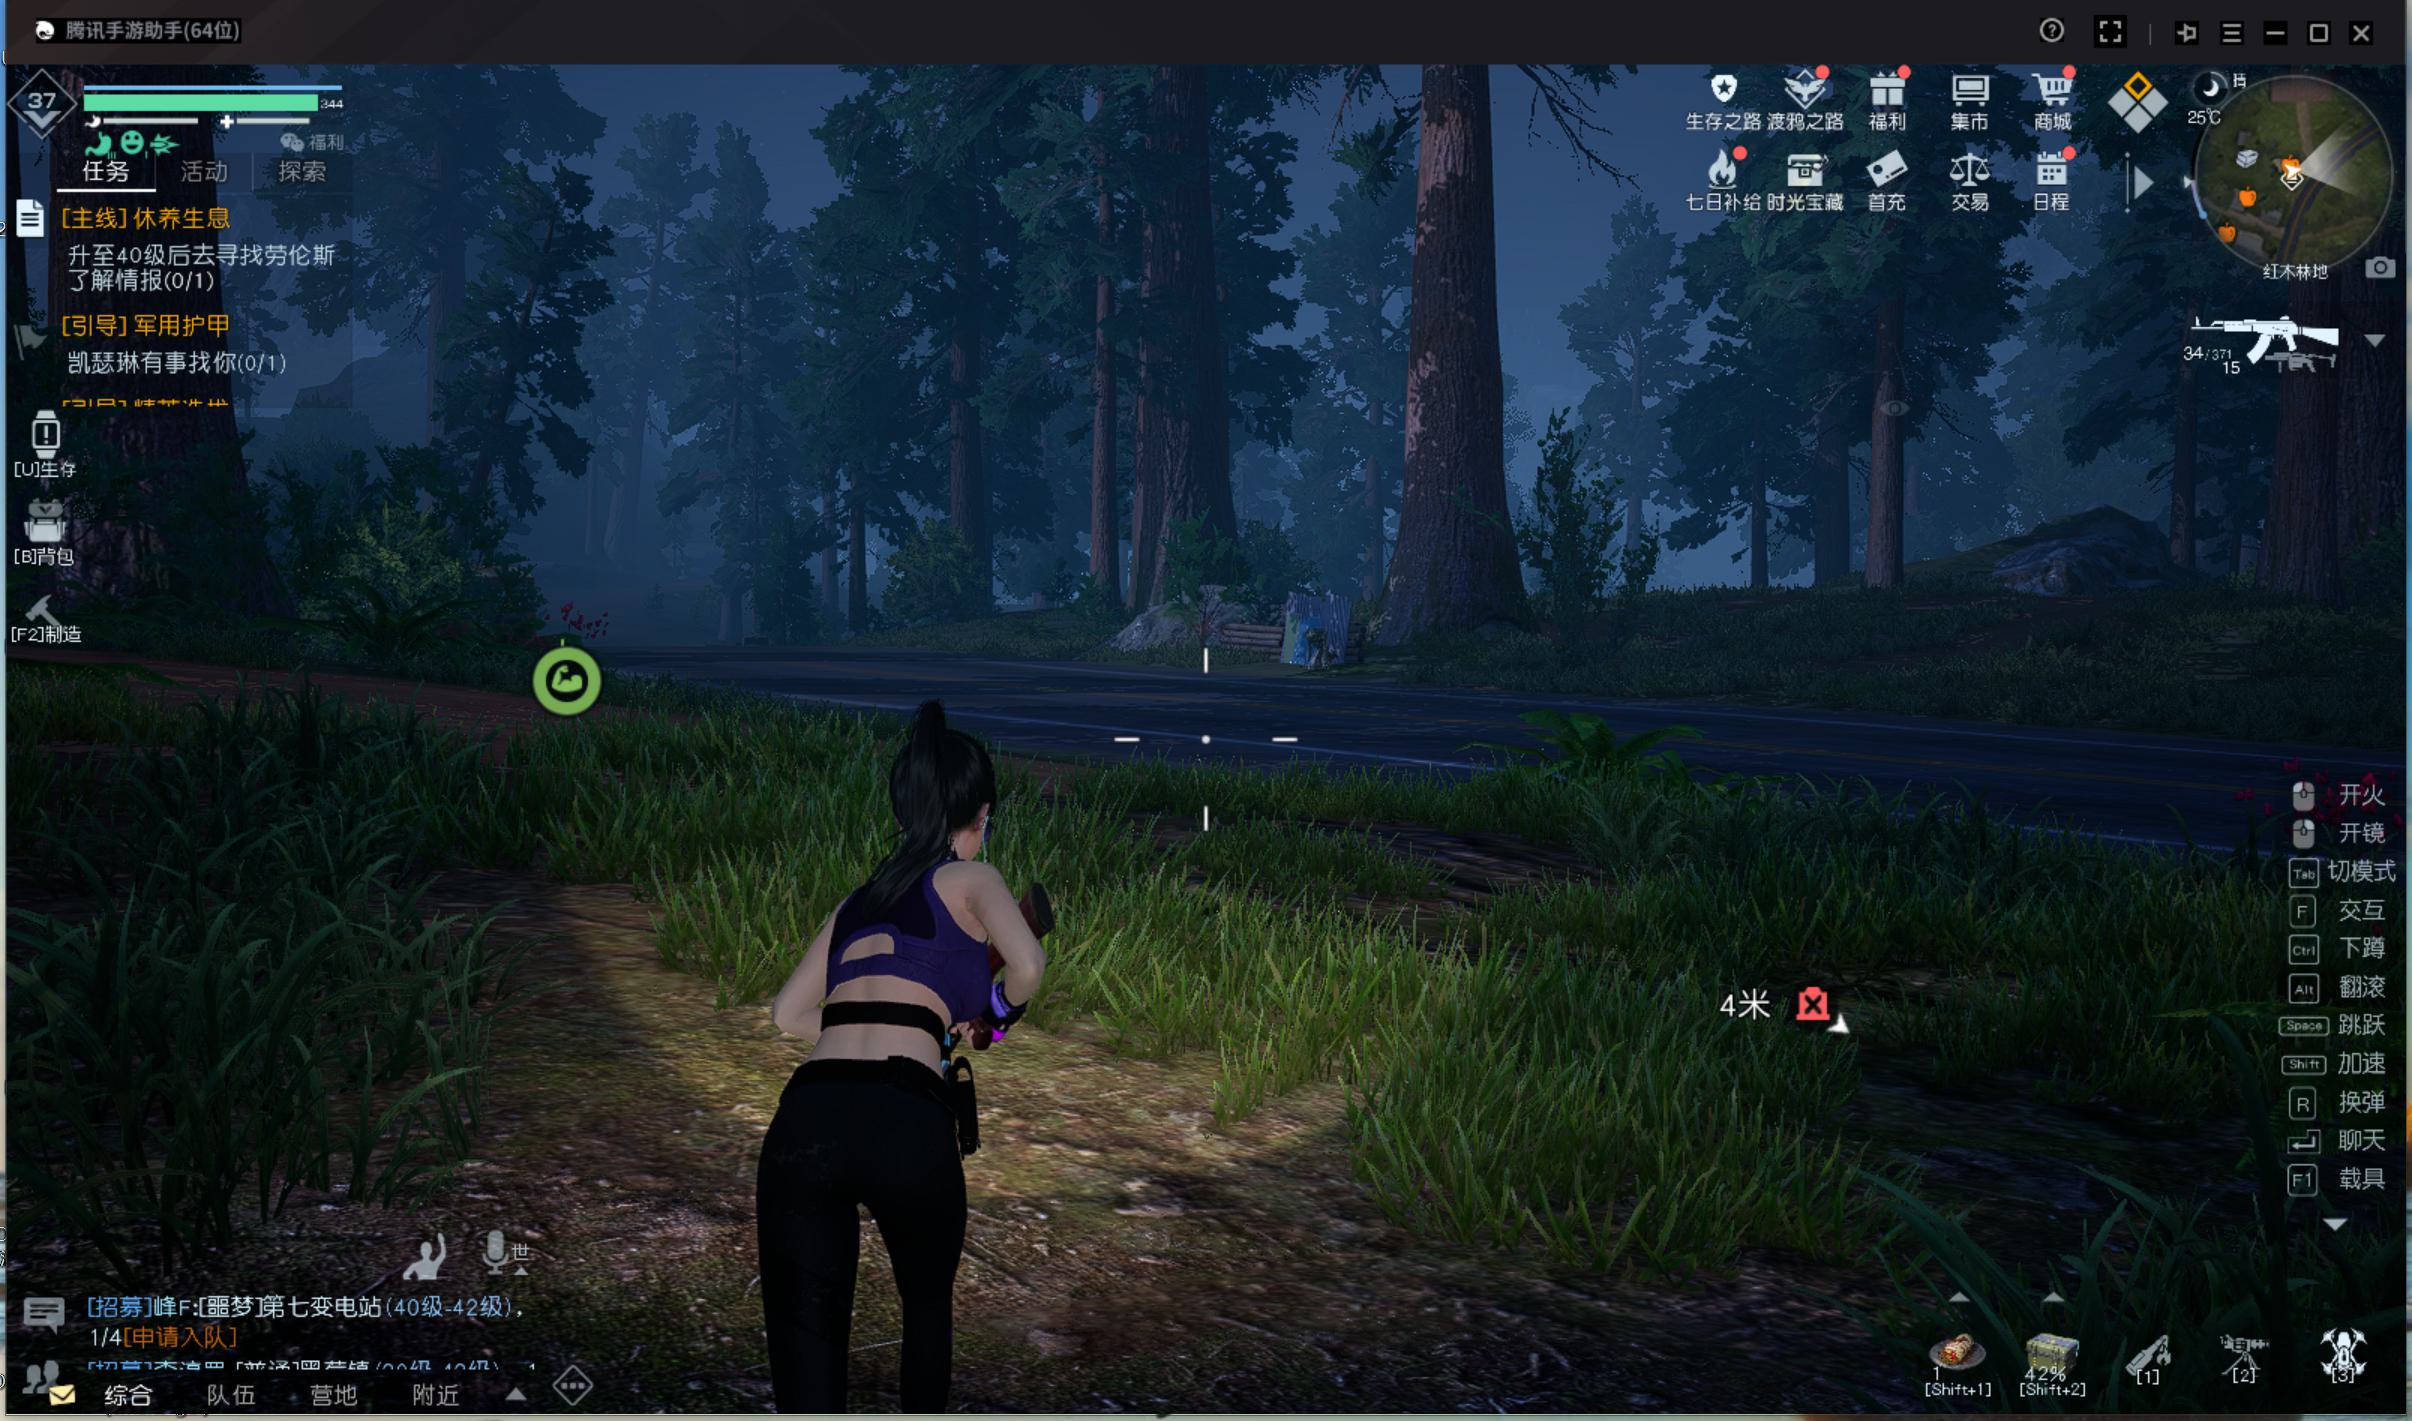tree: (1390, 90, 1529, 645), (1170, 186, 1252, 619), (1076, 230, 1123, 617), (944, 421, 986, 628), (1871, 394, 1911, 599), (1806, 453, 1854, 601), (842, 531, 878, 633)
